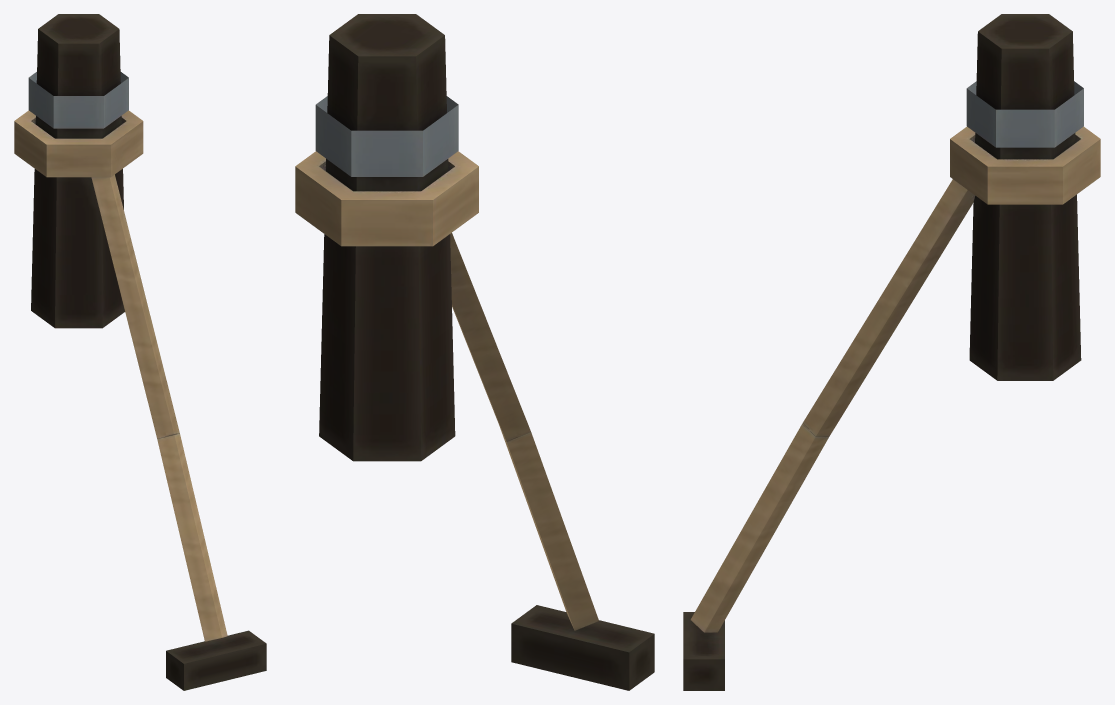
Rendered from raft-moor-age10.glb.
The picture shows the model from 3 angles, left to right: view 1: azimuth 30°, elevation 25°; view 2: azimuth 150°, elevation 25°; view 3: azimuth 270°, elevation 25°; orthographic projection. The views are drawn at different scales.
Visible parts, largest first — view 1: raft-moor-age10; view 2: raft-moor-age10; view 3: raft-moor-age10.
Boxes of the visible parts, bbox=[...] form: raft-moor-age10: bbox=[14, 14, 266, 690]; raft-moor-age10: bbox=[295, 14, 654, 690]; raft-moor-age10: bbox=[683, 14, 1100, 690].
Size of the model in its own units: 0.0935 by 0.5025 by 0.299.
1 material, 1 textured.
